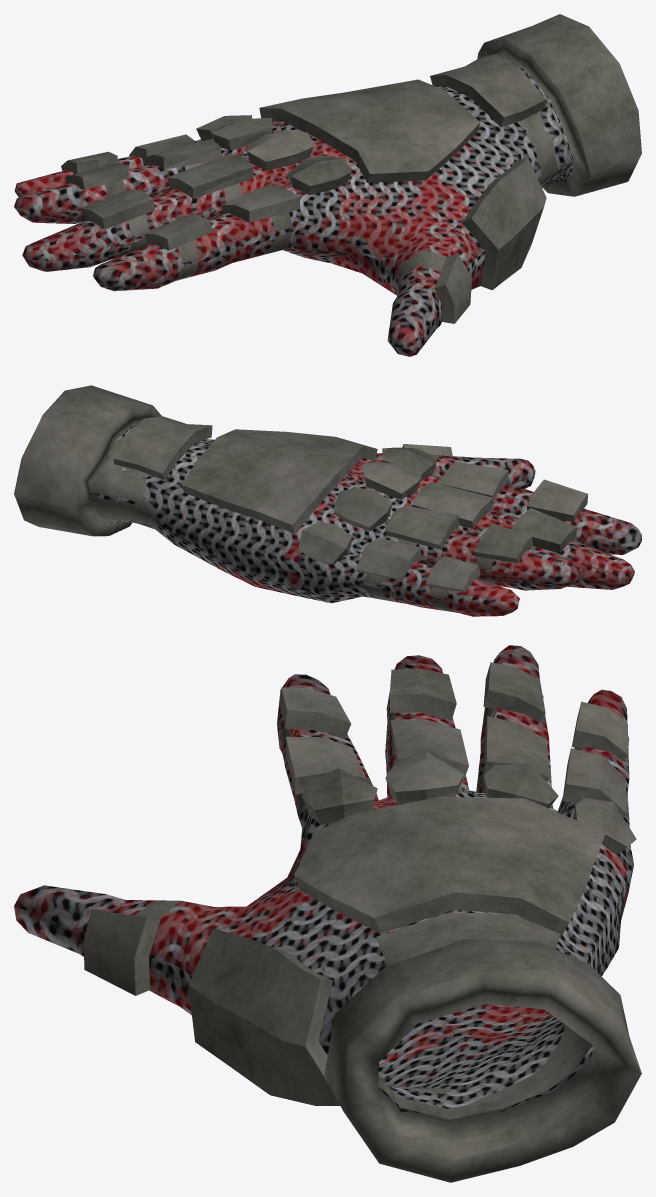
The model's file is gauntlets.glb.
3 renders of one model, top to bottom at view 1: azimuth 30°, elevation 25°; view 2: azimuth 150°, elevation 25°; view 3: azimuth 270°, elevation 25°, orthographic. The views are drawn at different scales.
Parts seen in each view (by area): view 1: gauntlet_plates_export; view 2: gauntlet_plates_export; view 3: gauntlet_plates_export.
Boxes of the visible parts, left/top/right/bottom form: gauntlet_plates_export: left=14, top=14, right=641, bottom=356; gauntlet_plates_export: left=14, top=385, right=641, bottom=616; gauntlet_plates_export: left=14, top=645, right=641, bottom=1182.
Bounding box in the file's own units: 0.1914 × 0.0507 × 0.1208.
Materials: 1 (1 with a texture image).
